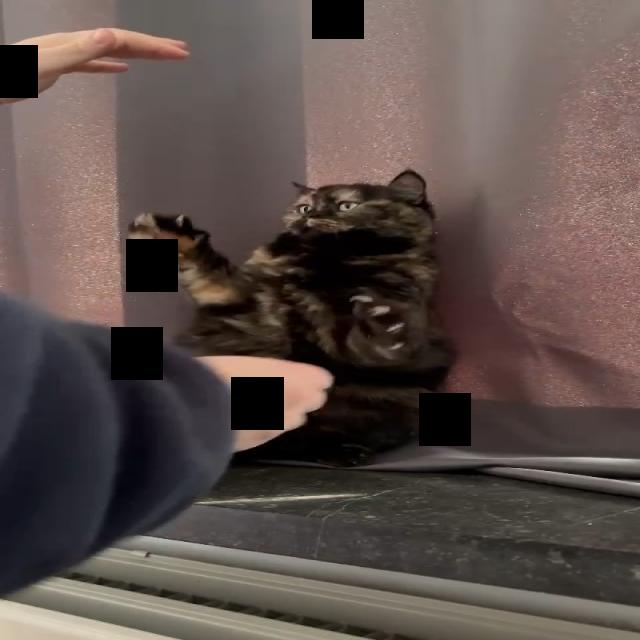authorized: (127, 167, 456, 468)
